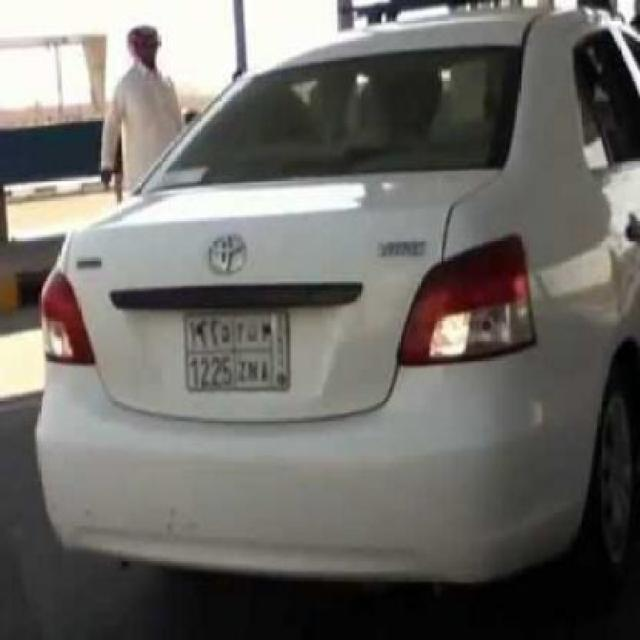license_plate: (181, 306, 294, 394)
